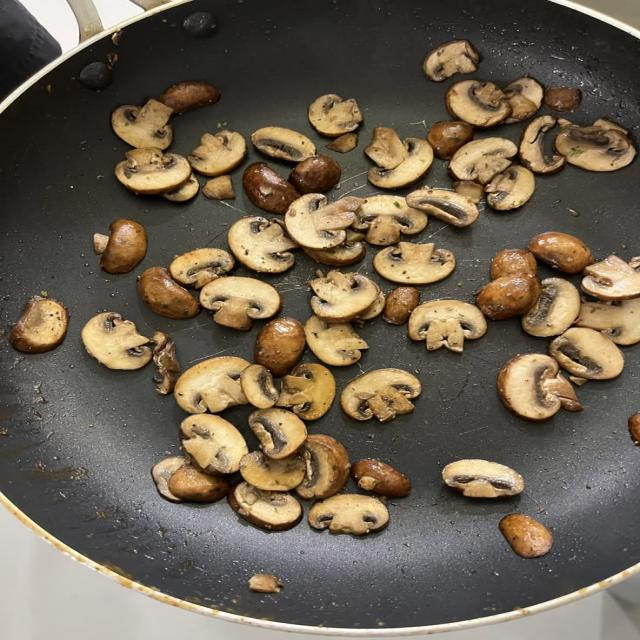champignon mushrooms: (498, 353, 582, 421), (200, 276, 281, 330), (341, 368, 421, 422), (554, 119, 636, 171), (174, 357, 249, 413), (285, 194, 361, 249), (408, 299, 486, 352), (366, 128, 433, 189), (81, 312, 152, 369), (227, 216, 298, 272), (549, 327, 624, 380), (180, 414, 247, 473), (352, 195, 427, 245), (309, 270, 379, 322), (115, 147, 191, 194), (228, 482, 302, 530), (296, 434, 349, 499), (521, 278, 580, 336), (9, 296, 69, 353), (277, 363, 336, 420), (308, 494, 389, 535), (374, 243, 455, 284), (138, 267, 199, 319), (449, 138, 517, 184), (446, 80, 511, 128), (254, 317, 306, 377), (442, 460, 524, 498), (305, 316, 368, 365), (112, 99, 173, 149), (575, 298, 639, 345), (248, 408, 306, 459), (242, 162, 300, 213), (476, 274, 540, 320), (407, 187, 479, 227), (94, 219, 146, 274), (528, 232, 593, 274), (520, 115, 566, 173), (188, 130, 246, 176), (581, 255, 639, 300), (169, 248, 234, 288), (240, 451, 305, 491), (499, 514, 553, 558), (303, 229, 366, 266), (308, 94, 362, 137), (423, 40, 479, 81), (351, 459, 411, 497), (251, 127, 315, 162), (168, 466, 230, 502), (485, 166, 534, 210), (158, 81, 220, 114), (288, 156, 341, 193), (504, 76, 544, 123), (152, 332, 181, 394), (427, 121, 473, 159), (365, 127, 406, 169), (240, 365, 279, 409), (152, 457, 187, 502), (382, 286, 419, 324), (491, 249, 537, 279), (354, 283, 385, 322), (162, 173, 199, 202), (544, 87, 581, 111), (202, 175, 235, 199), (453, 181, 484, 204), (248, 574, 283, 593), (327, 132, 358, 153)
